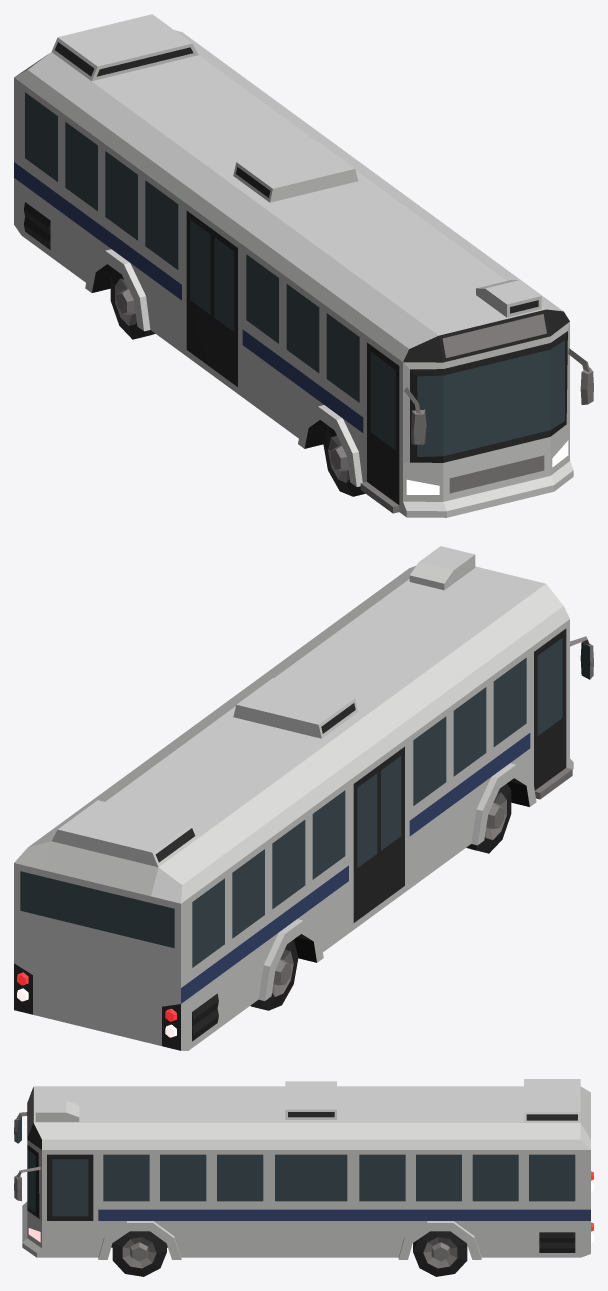
The model's file is vehicles_bus-passenger.fbx.
3 renders of one model, top to bottom at view 1: azimuth 30°, elevation 25°; view 2: azimuth 150°, elevation 25°; view 3: azimuth 270°, elevation 25°, orthographic. The views are drawn at different scales.
Parts seen in each view (by area): view 1: bus_passenger_base, bus_passenger_wheel_BR, bus_passenger_wheel_FR; view 2: bus_passenger_base, bus_passenger_wheel_FR, bus_passenger_wheel_BR; view 3: bus_passenger_base, bus_passenger_wheel_FL, bus_passenger_wheel_BL.
Boxes of the visible parts, <box> form: bus_passenger_base: <box>14,14,593,517</box>; bus_passenger_wheel_BR: <box>110,270,155,339</box>; bus_passenger_wheel_FR: <box>323,425,365,496</box>; bus_passenger_base: <box>14,546,593,1050</box>; bus_passenger_wheel_FR: <box>466,783,511,853</box>; bus_passenger_wheel_BR: <box>250,939,298,1010</box>; bus_passenger_base: <box>14,1079,593,1259</box>; bus_passenger_wheel_FL: <box>112,1231,166,1276</box>; bus_passenger_wheel_BL: <box>413,1231,467,1276</box>.
Size of the model in its own units: 50.62 by 59.32 by 200.
